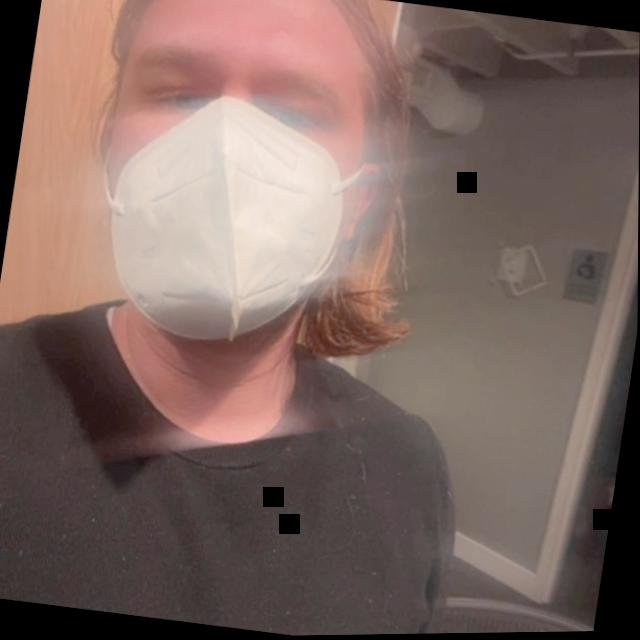Mask: (42, 0, 459, 388)
